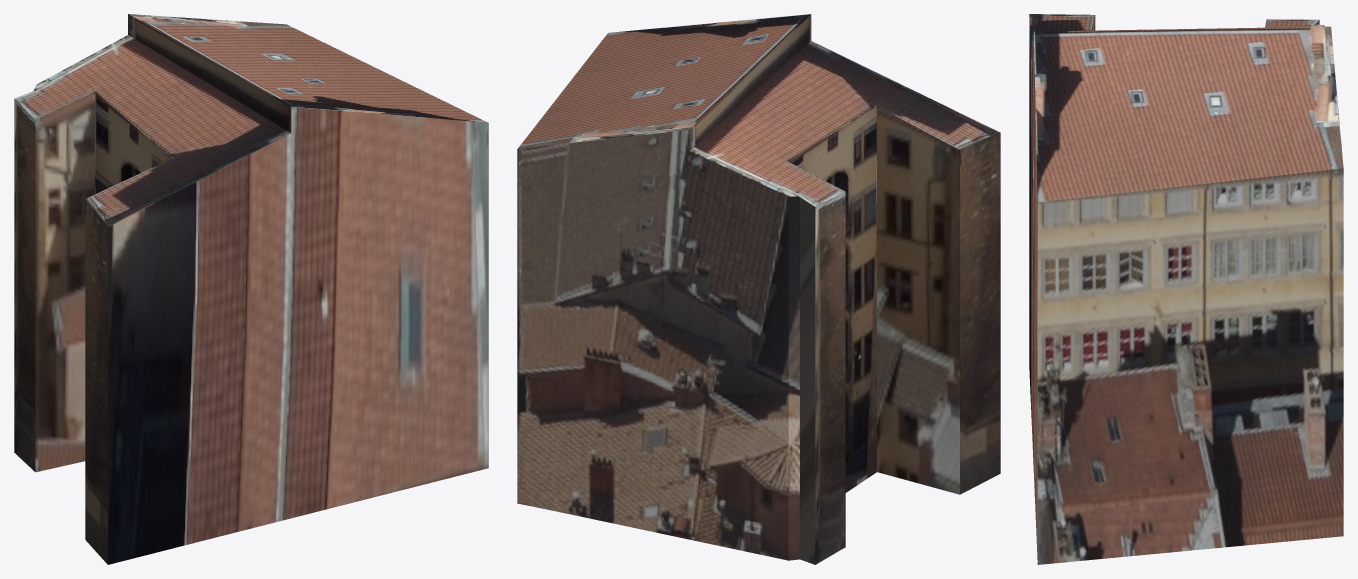
The picture shows the model from 3 angles, left to right: view 1: azimuth 30°, elevation 25°; view 2: azimuth 150°, elevation 25°; view 3: azimuth 270°, elevation 25°; orthographic projection. The views are drawn at different scales.
Parts seen in each view (by area): view 1: Z_UP; view 2: Z_UP; view 3: Z_UP.
Boxes of the visible parts, box(x1,y1,x2,y2) form: Z_UP: box(14, 14, 488, 564); Z_UP: box(517, 14, 1000, 564); Z_UP: box(1029, 14, 1343, 564).
Bounding box in the file's own units: 22.65 × 23.15 × 15.28.
Materials: 2 (1 with a texture image).
